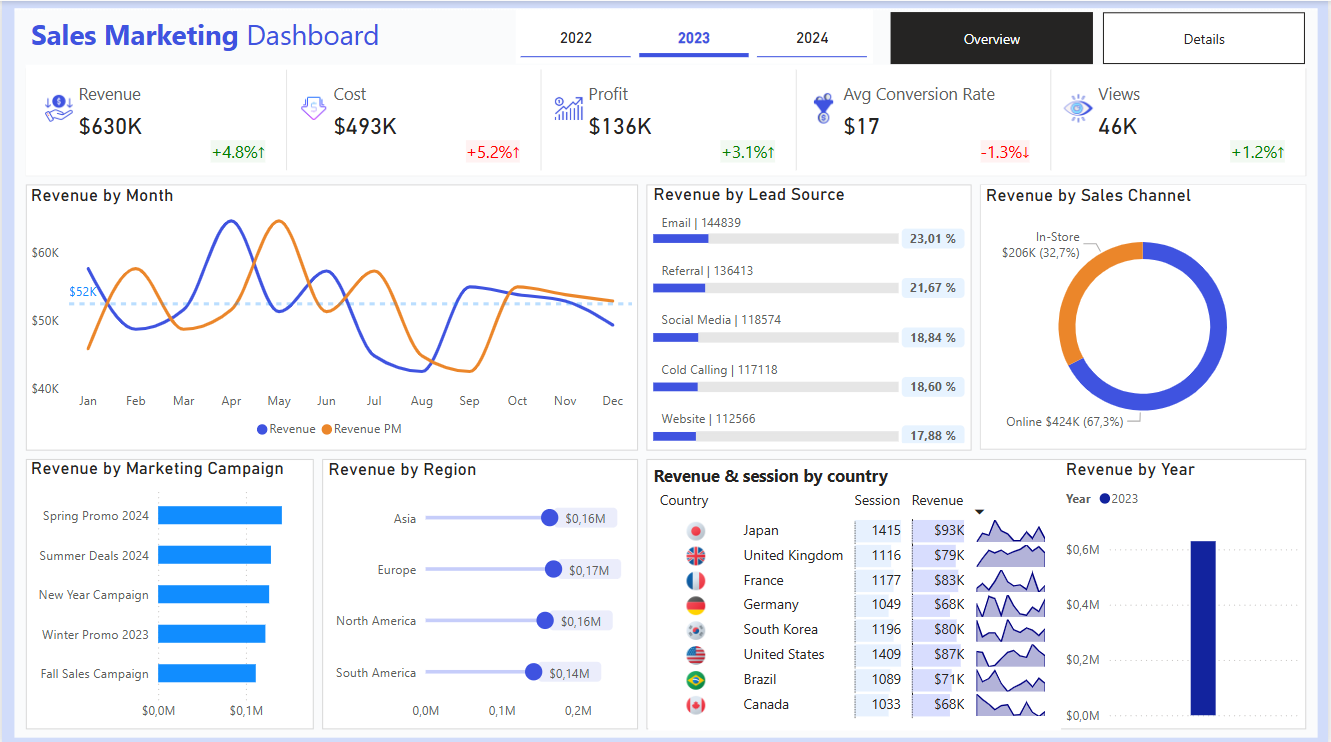

The dashboard page shown, as its layout file describes it:
{"tool":"powerbi","page":{"name":"Overview","canvas":[1280,720],"ordinal":0},"visuals":[{"type":"advancedSlicerVisual","fields":{"Values":["Calendar.Year"]},"box":[495.8,8.4,345,51.9],"z":0},{"type":"cardVisual","fields":{"Data":["All Measures.Revenue","All Measures.Cost","All Measures.Profit","All Measures.Avg Conversion Rate","All Measures.Views"]},"box":[22.5,61.1,1235.3,107.3],"z":1000},{"type":"lineChart","title":"Revenue by Month","fields":{"Y":["All Measures.Revenue","All Measures.Revenue PM"],"Category":["Calendar.Month"]},"box":[22.5,177.2,590.2,254.6],"z":2000},{"type":"clusteredBarChart","title":"Revenue by Lead Source","fields":{"Y":["All Measures.Base Zero","All Measures.Revenue % of Lead","All Measures.Whole"],"Category":["dimLeadSource.Lead Source"]},"box":[623.9,175.9,312,255.8],"z":3000},{"type":"donutChart","fields":{"Y":["All Measures.Revenue"],"Category":["dimChannel.Sales Channel"]},"box":[944.6,177.2,313.2,254.6],"z":4000},{"type":"clusteredBarChart","fields":{"Y":["All Measures.Revenue"],"Category":["dimMarketingCampaign.Marketing Campaign"]},"box":[22.5,440.5,277,263.3],"z":5000},{"type":"clusteredBarChart","title":"Revenue by Region","fields":{"Y":["All Measures.Blank1","All Measures.Revenue","All Measures.Blank2"],"Category":["dimCountry.Region"]},"box":[309.5,441.7,303.2,262],"z":6000},{"type":"tableEx","fields":{"Values":["dimCountry.Country Flag.flag","dimCountry.Country","All Measures.Session","All Measures.Revenue","All Measures.Revenue Sparkline"]},"box":[623.9,465.4,398.1,238.3],"z":7000},{"type":"clusteredColumnChart","fields":{"Y":["All Measures.Revenue"],"Series":["Calendar.Year"]},"box":[1022,442,236,262],"z":8000},{"type":"textbox","box":[22.5,8.7,361.9,49.9],"z":9000},{"type":"textbox","box":[623.7,441.6,271.4,35],"z":10000},{"type":"pageNavigator","box":[857.6,11.1,400.5,50.4],"z":11000}]}

Visuals, with their boxes in screenshot pixels (x1, y1, x2, y2), scaled from the page's 1280x720 canvas onto the 1331x742 screenshot:
advancedSlicerVisual - Calendar.Year: select_region(516, 9, 874, 62)
cardVisual - All Measures.Revenue x All Measures.Cost: select_region(23, 63, 1308, 174)
"Revenue by Month" lineChart: select_region(23, 183, 637, 445)
"Revenue by Lead Source" clusteredBarChart: select_region(649, 181, 973, 445)
donutChart - All Measures.Revenue x dimChannel.Sales Channel: select_region(982, 183, 1308, 445)
clusteredBarChart - All Measures.Revenue x dimMarketingCampaign.Marketing Campaign: select_region(23, 454, 311, 725)
"Revenue by Region" clusteredBarChart: select_region(322, 455, 637, 725)
tableEx - dimCountry.Country Flag.flag x dimCountry.Country: select_region(649, 480, 1063, 725)
clusteredColumnChart - All Measures.Revenue x Calendar.Year: select_region(1063, 456, 1308, 726)
textbox: select_region(23, 9, 400, 60)
textbox: select_region(649, 455, 931, 491)
pageNavigator: select_region(892, 11, 1308, 63)
